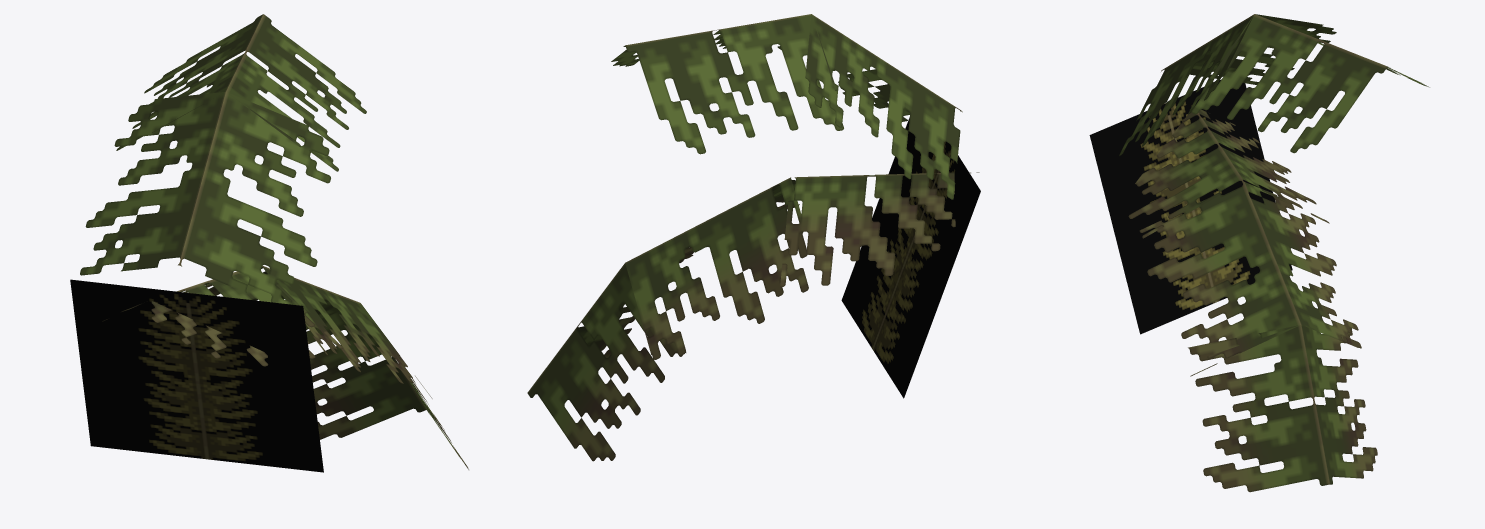
File: date_palm_corner_2.obj
3 renders of one model, left to right at view 1: azimuth 30°, elevation 25°; view 2: azimuth 150°, elevation 25°; view 3: azimuth 270°, elevation 25°, orthographic. The views are drawn at different scales.
Parts seen in each view (by area): view 1: cube.323; view 2: cube.323; view 3: cube.323.
Part boxes in pixels (left/top/right/bottom): cube.323: left=70, top=14, right=468, bottom=472; cube.323: left=527, top=14, right=980, bottom=461; cube.323: left=1089, top=14, right=1429, bottom=492.
Size of the model in its own units: 3 by 3.17 by 2.87.
